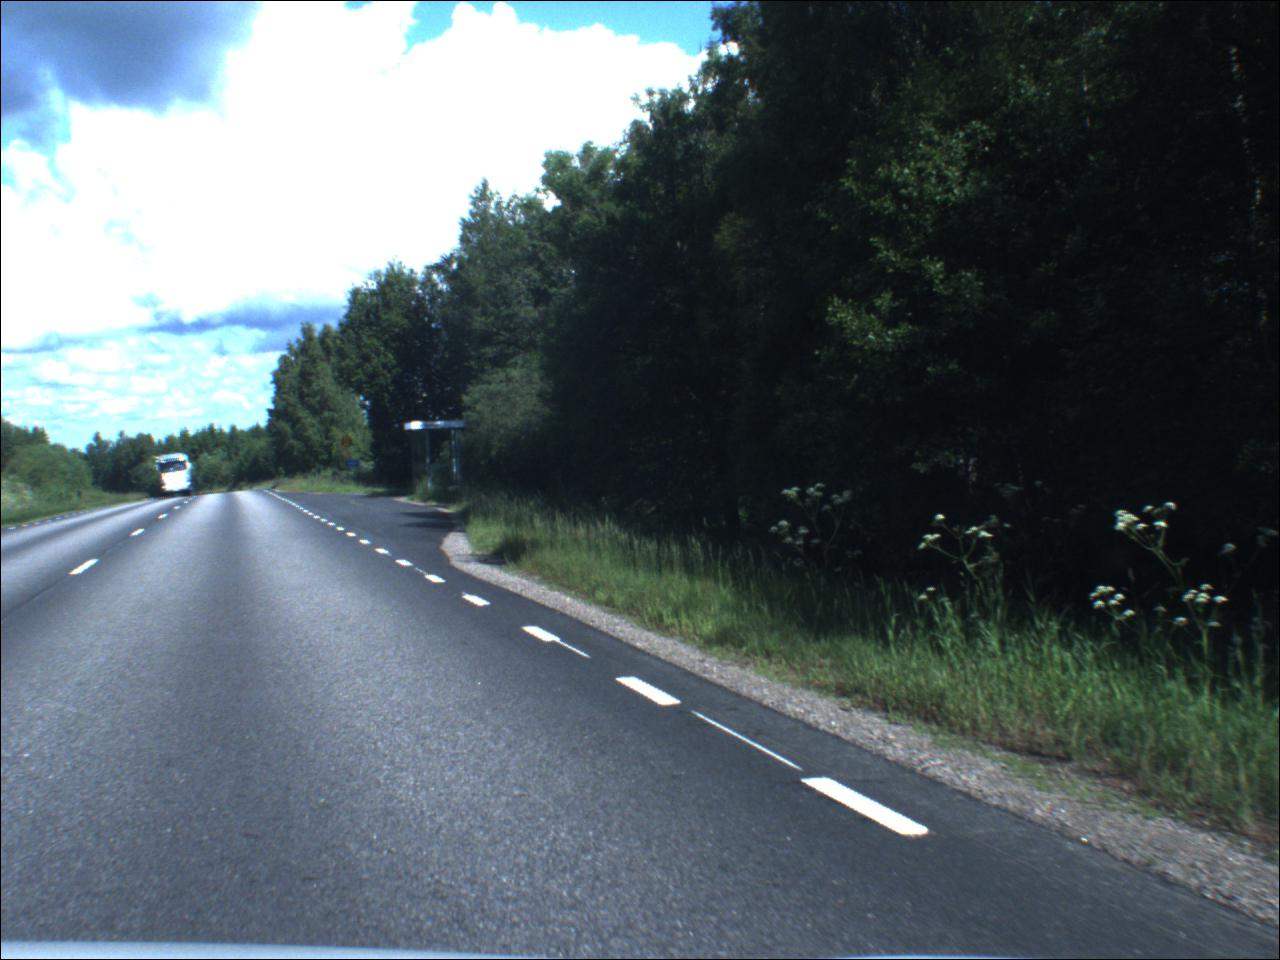80_SIGN: (343, 437, 356, 451)
PRIORITY_ROAD: (345, 452, 355, 462)
